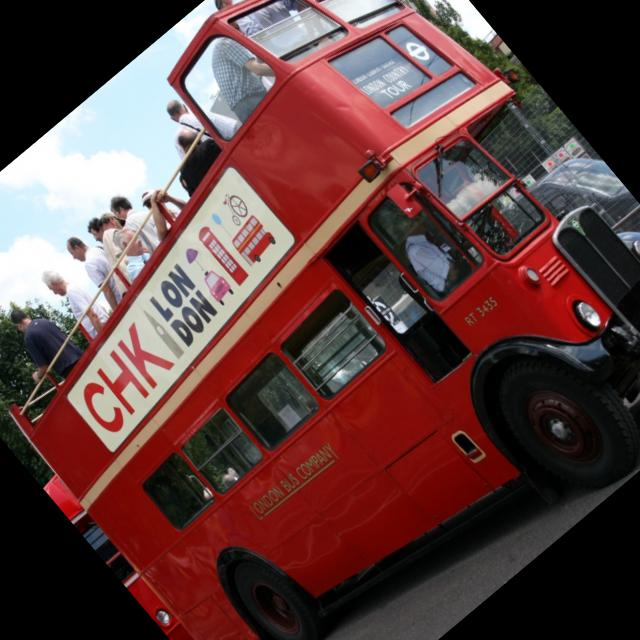bus: (0, 0, 640, 640), (40, 472, 206, 640)
